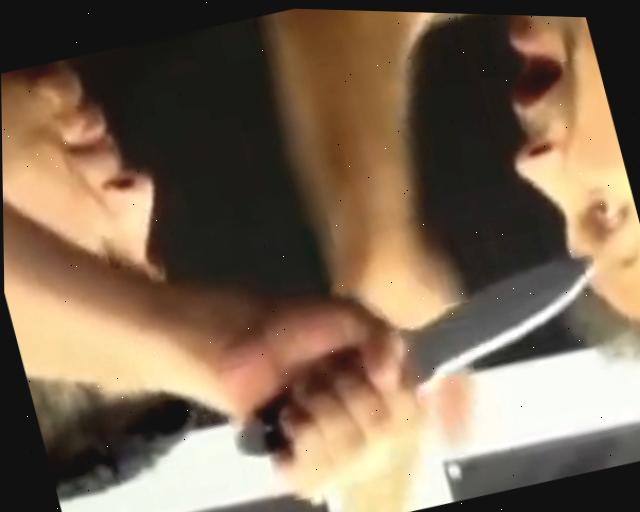pocket-knife: (203, 224, 640, 487)
